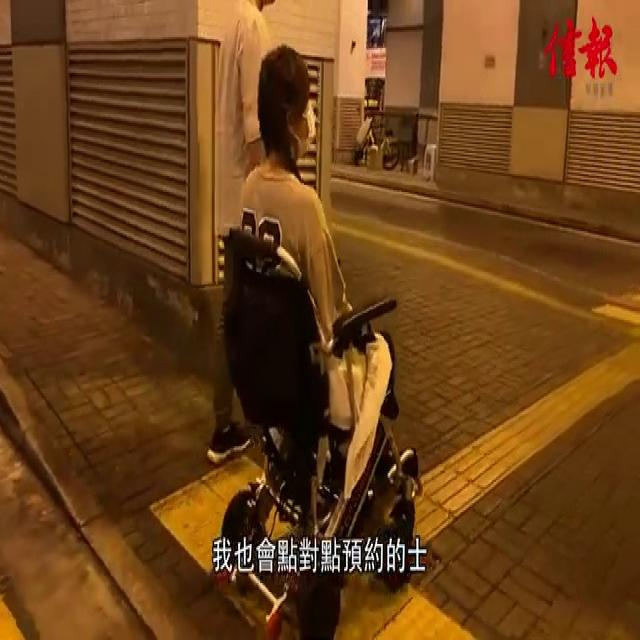wheelchairs: (204, 224, 423, 640)
